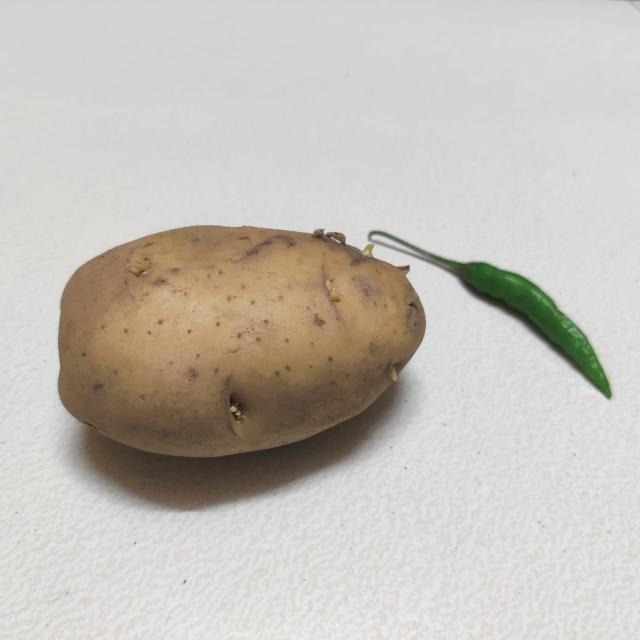Organik: (48, 224, 420, 462), (436, 217, 630, 423)
